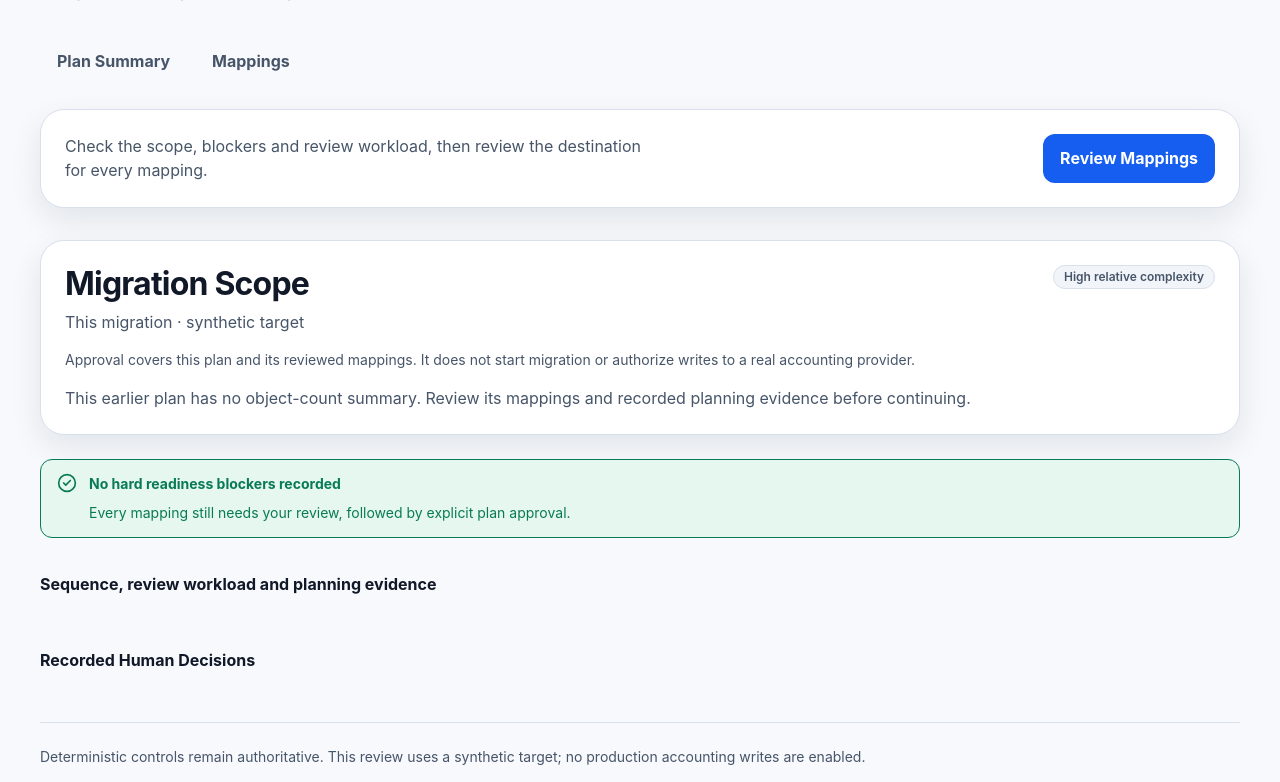
Plan → Map → Approve › leads with a ready outcome and one primary action
This screenshot has width=1280, height=782.
(page scrolled)
Expected: the heading "Migration Scope" is shown, [65,265,309,302]
Expected: the heading "What Needs Human Review" is not shown
Click the heading "Sequence, review workload and planning evidence" at [238, 584], box [40,574,436,594]
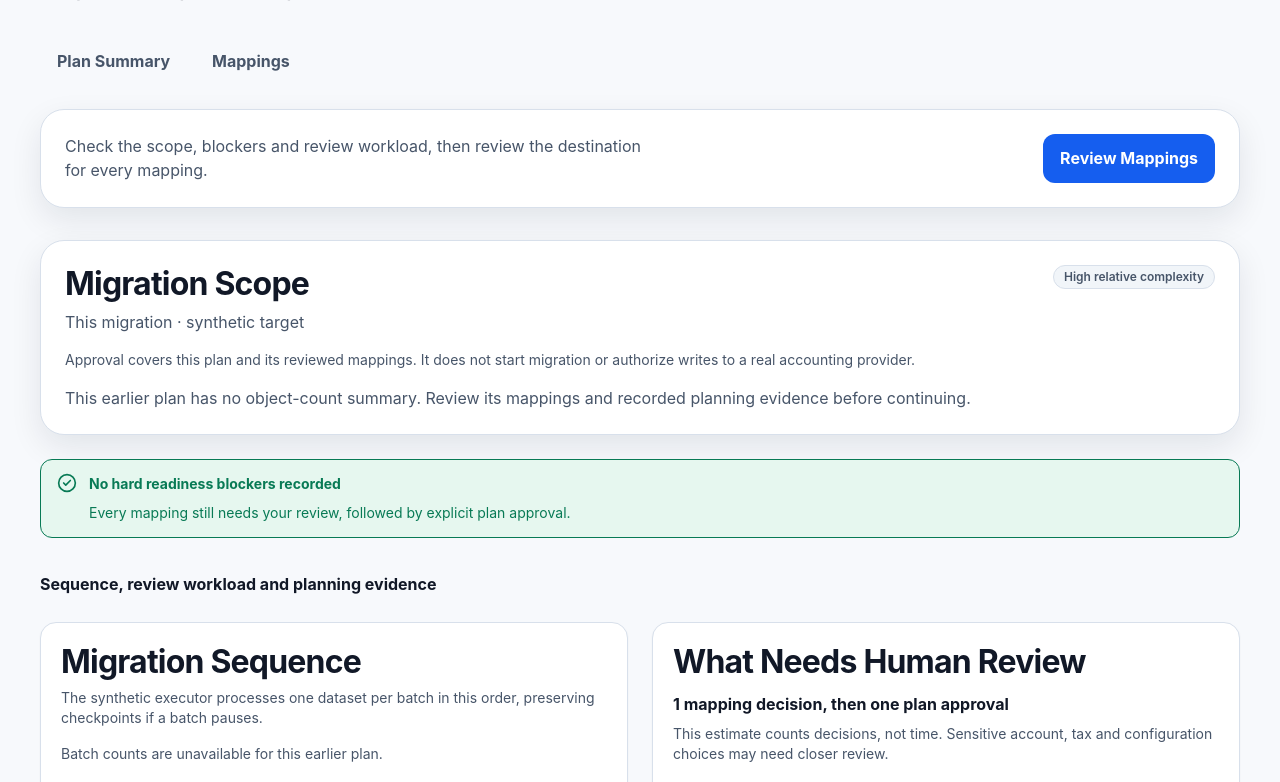
Expected: the button "Review Mappings" is enabled, [1043,134,1215,183]
Expected: the heading "What Needs Human Review" is shown, [673,642,1086,681]
